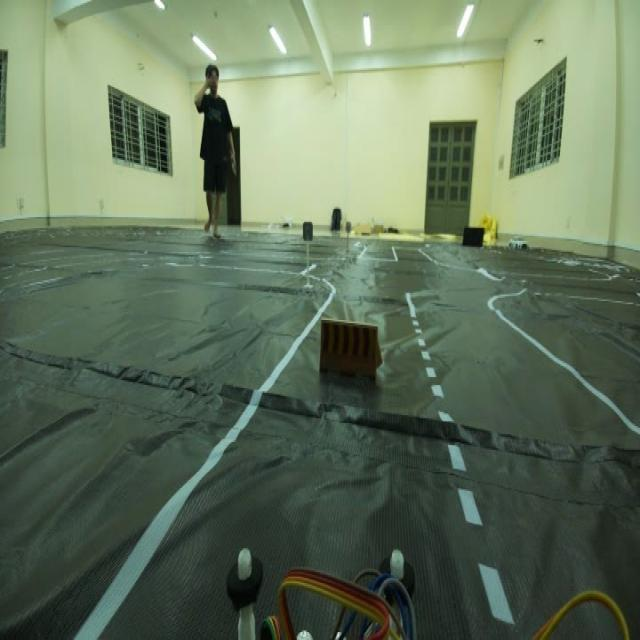roadblock: (308, 308, 396, 402)
